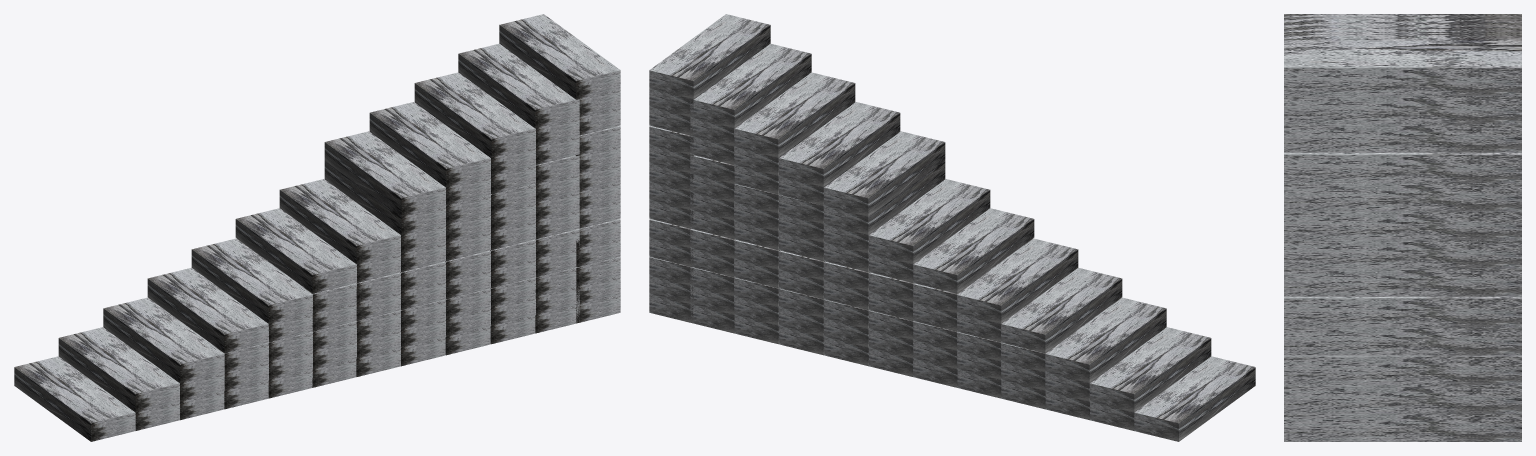
File: Steps82joined.fbx
The picture shows the model from 3 angles, left to right: view 1: azimuth 30°, elevation 25°; view 2: azimuth 150°, elevation 25°; view 3: azimuth 270°, elevation 25°; orthographic projection. The views are drawn at different scales.
Parts seen in each view (by area): view 1: Cube.082; view 2: Cube.082; view 3: Cube.082.
Boxes of the visible parts, x1,y1,x2,y2 form: Cube.082: (14, 14, 620, 441); Cube.082: (649, 14, 1255, 441); Cube.082: (1284, 14, 1521, 441).
Size of the model in its own units: 2385 by 1043 by 600.
